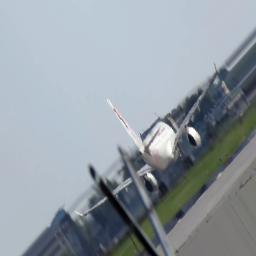Airplane: (68, 69, 219, 218)
